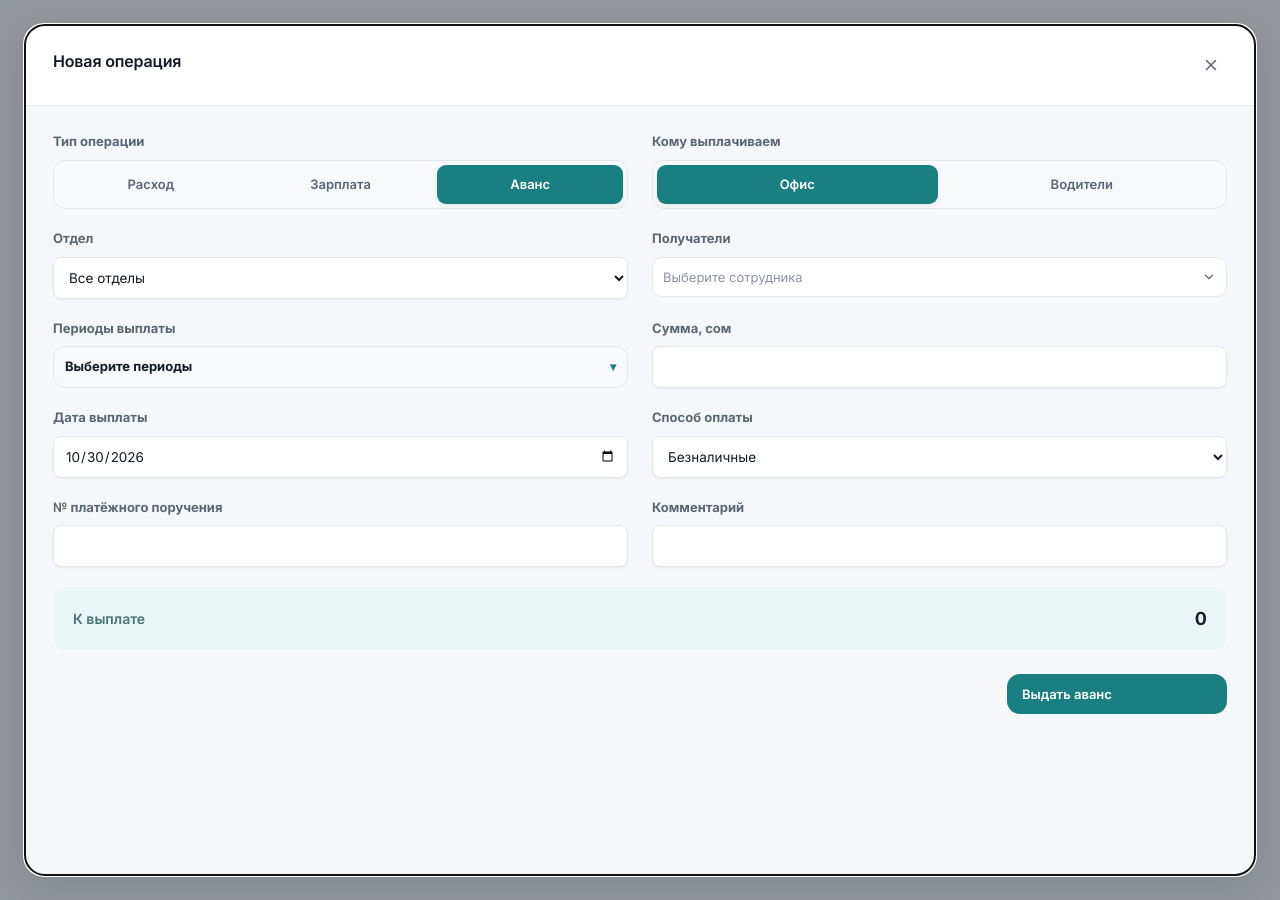
Test: driver selection adds up individual amounts in the main amount field
Click the button "Водители".
click(1082, 184)  # box left=942, top=164, right=1222, bottom=204
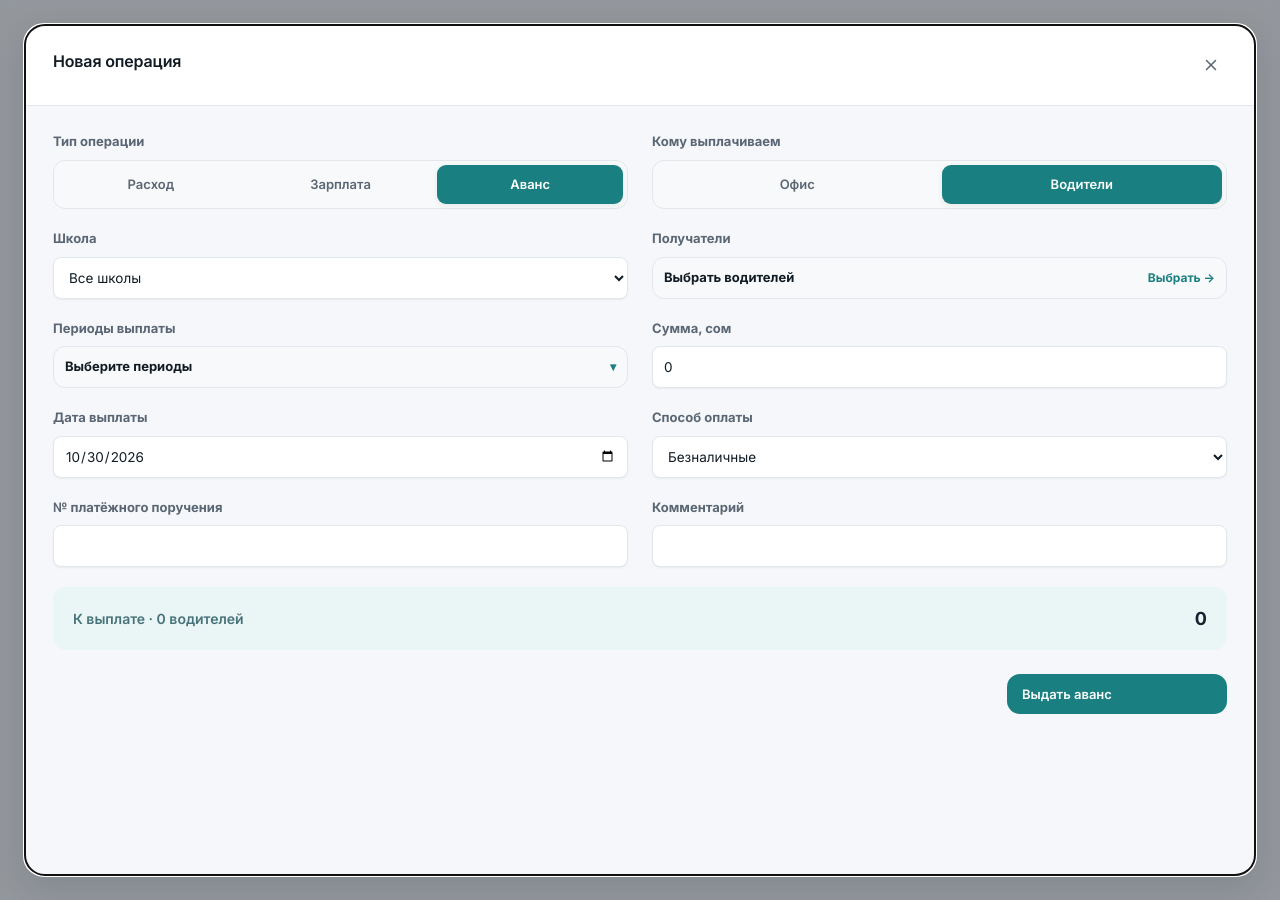
Click the button named "Получатели".
click(729, 277)  # box left=652, top=256, right=1227, bottom=298
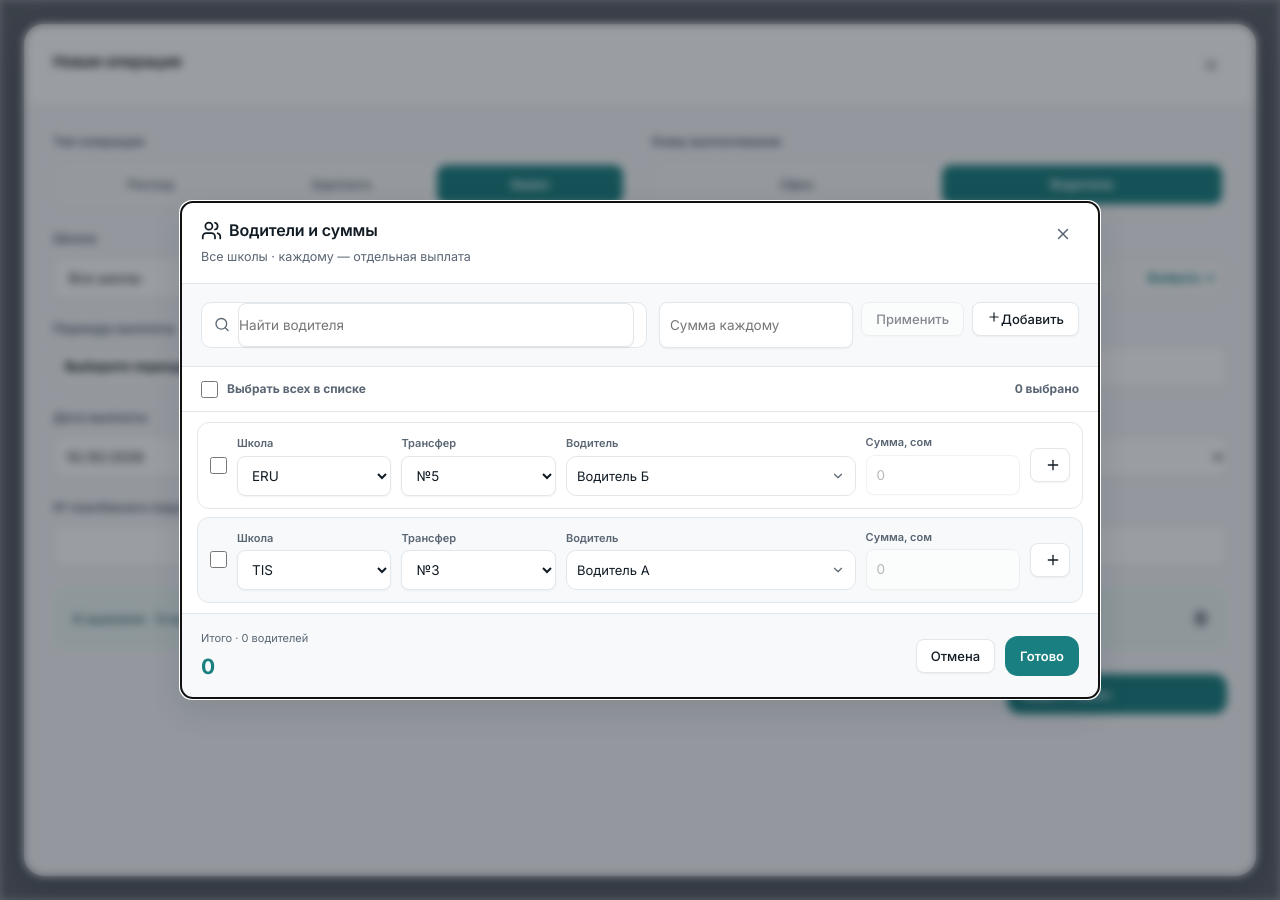
Click the checkbox named "Водитель А".
click(218, 560)  # box left=210, top=551, right=227, bottom=568
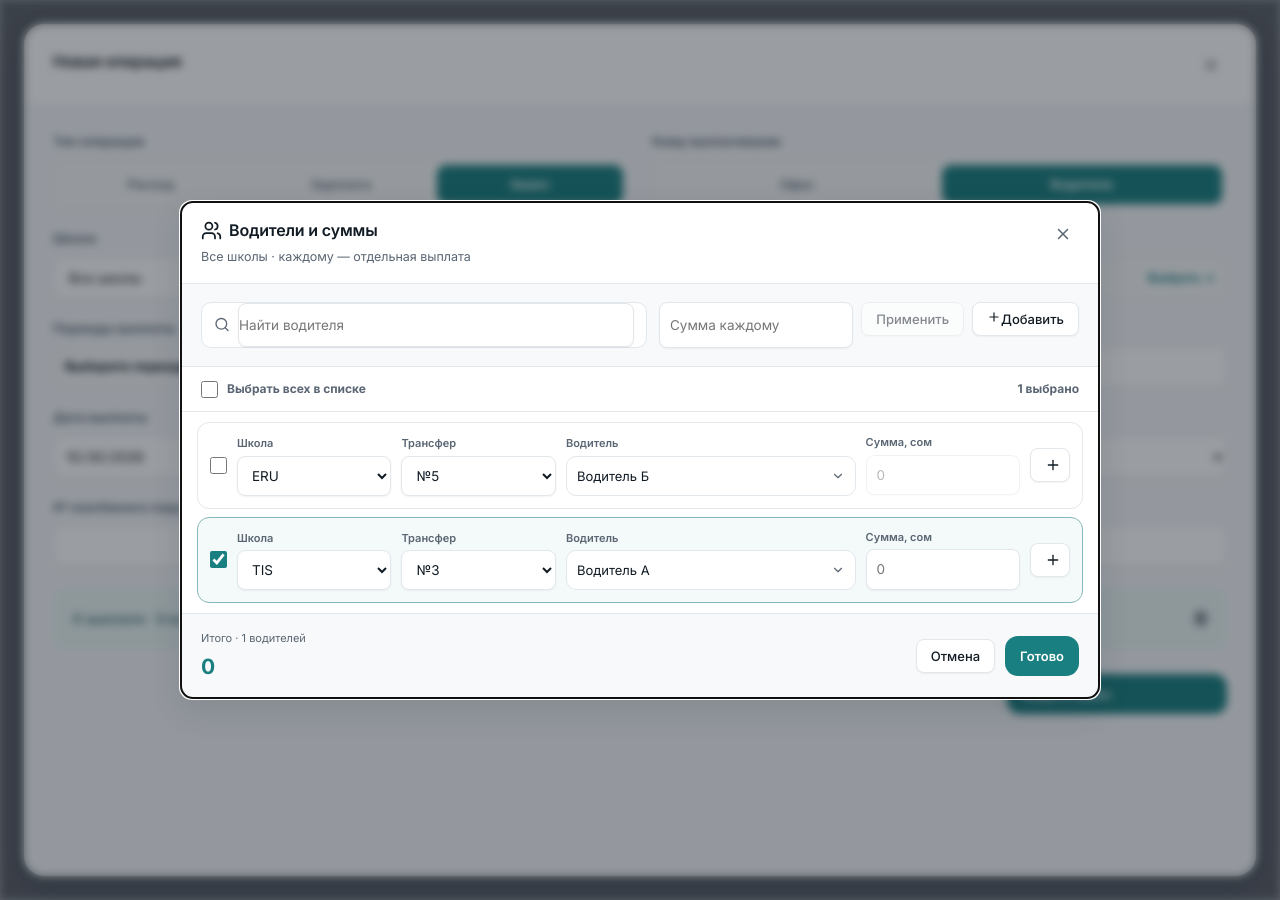
Type "500" into the number field named "Сумма для Водитель А".
click(943, 569); type("500")  # box left=866, top=549, right=1020, bottom=590
Click the checkbox named "Водитель Б".
click(218, 465)  # box left=210, top=457, right=227, bottom=474
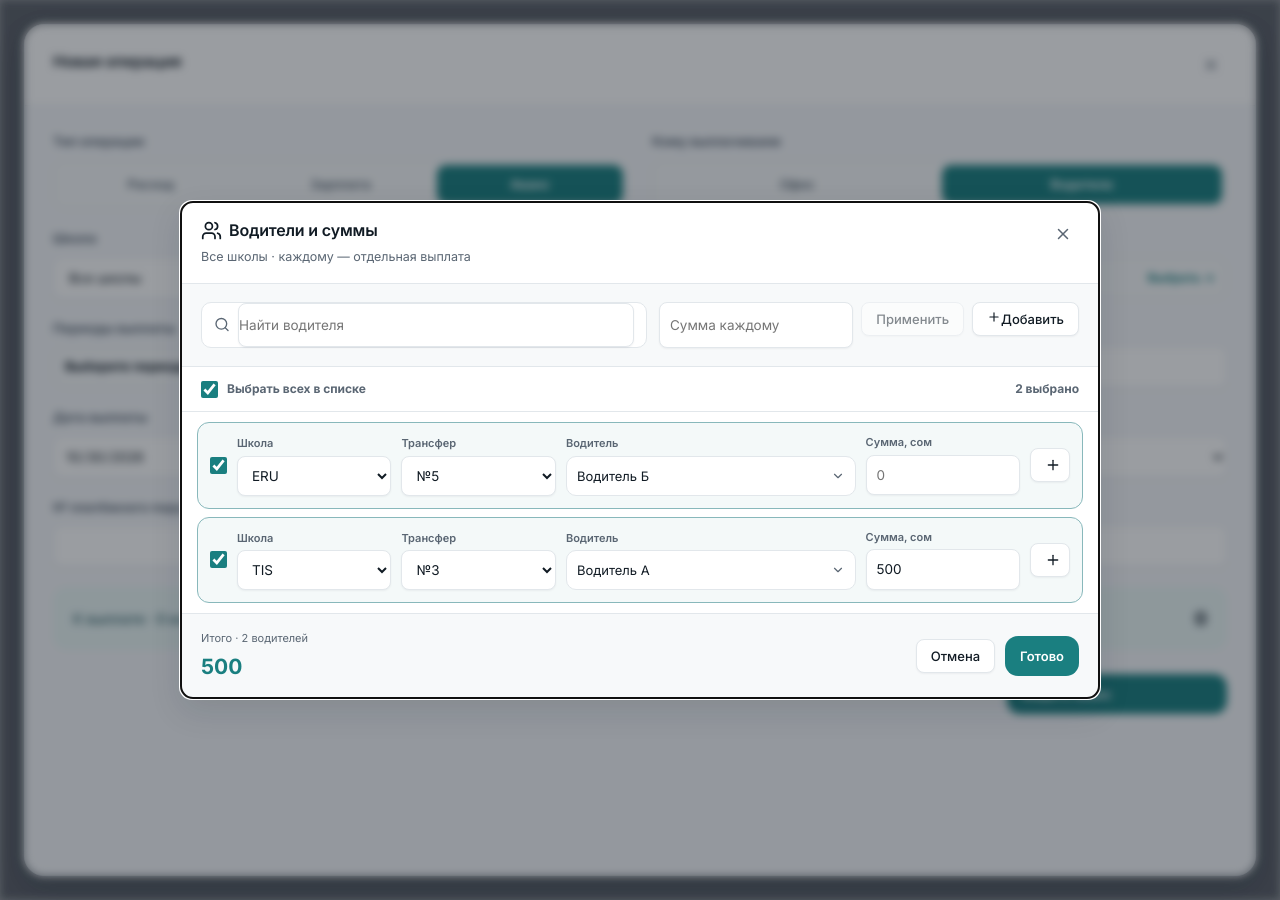
Type "700" into the number field named "Сумма для Водитель Б".
click(943, 475); type("700")  # box left=866, top=454, right=1020, bottom=495
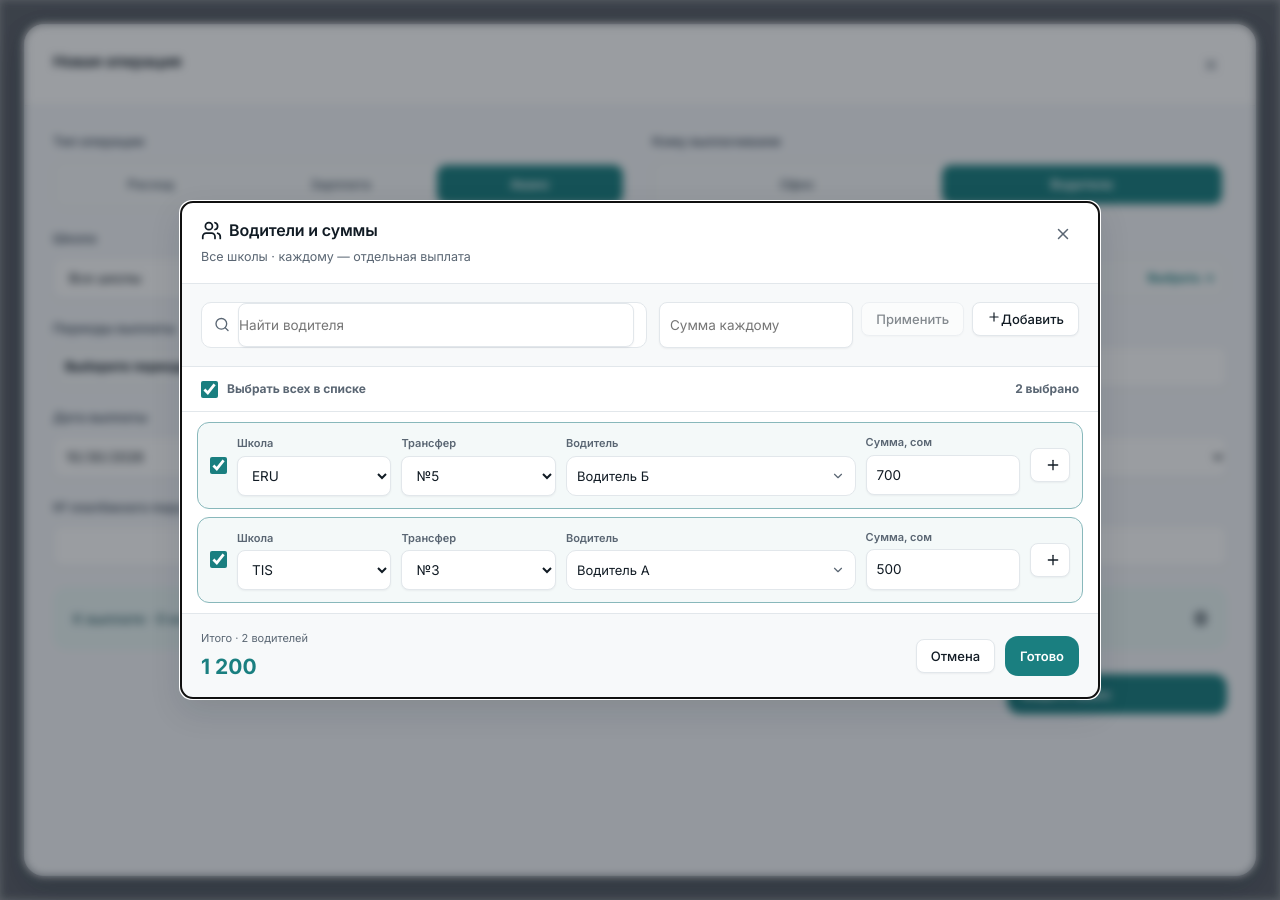
Click the button "Готово".
click(1042, 656)  # box left=1005, top=636, right=1079, bottom=676
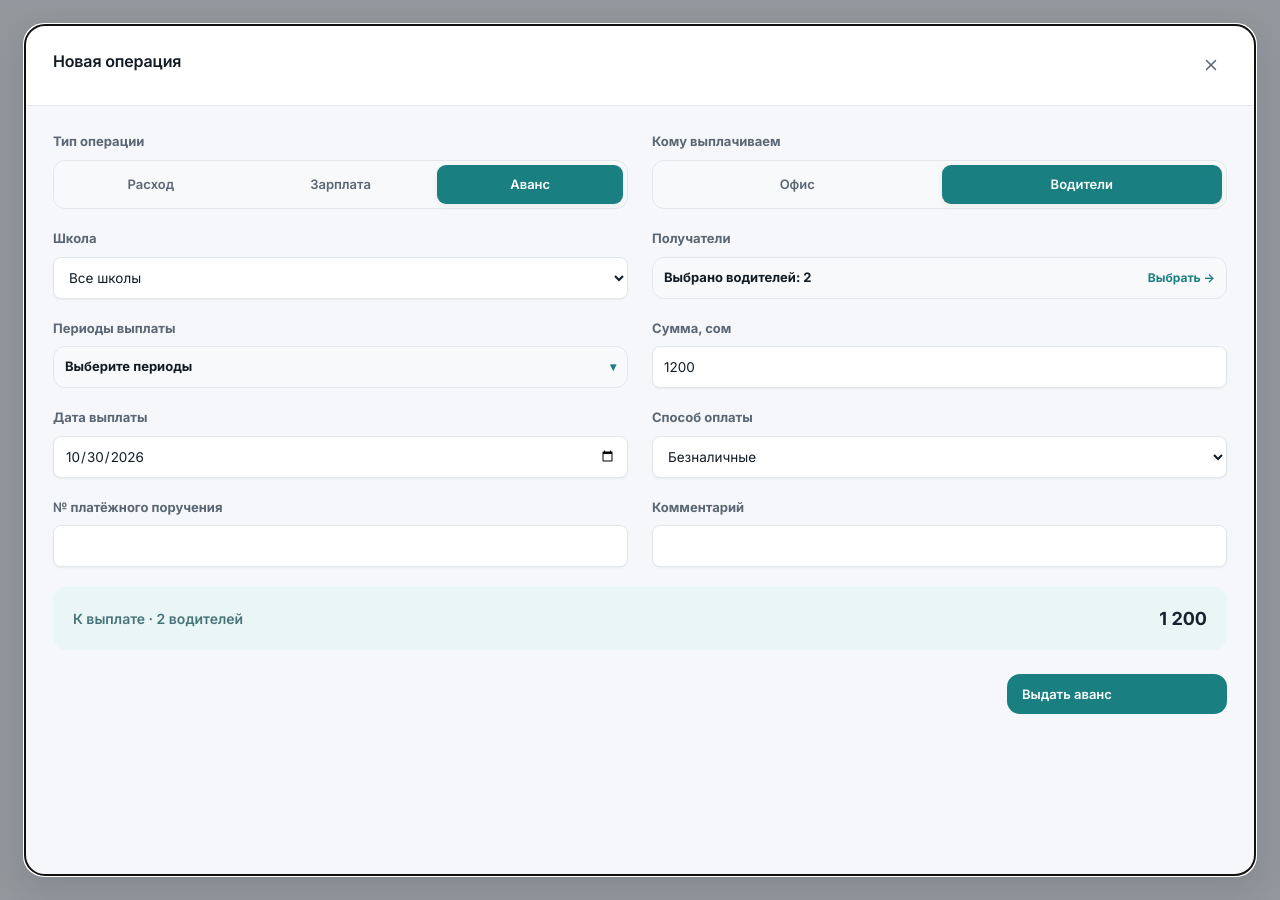
Check: the number field labelled "Сумма, сом" holds "1200", box left=652, top=346, right=1227, bottom=388
Check: the text "Выбрано водителей: 2" is shown, box left=664, top=268, right=812, bottom=287
Check: the button "Водитель А" is gone
